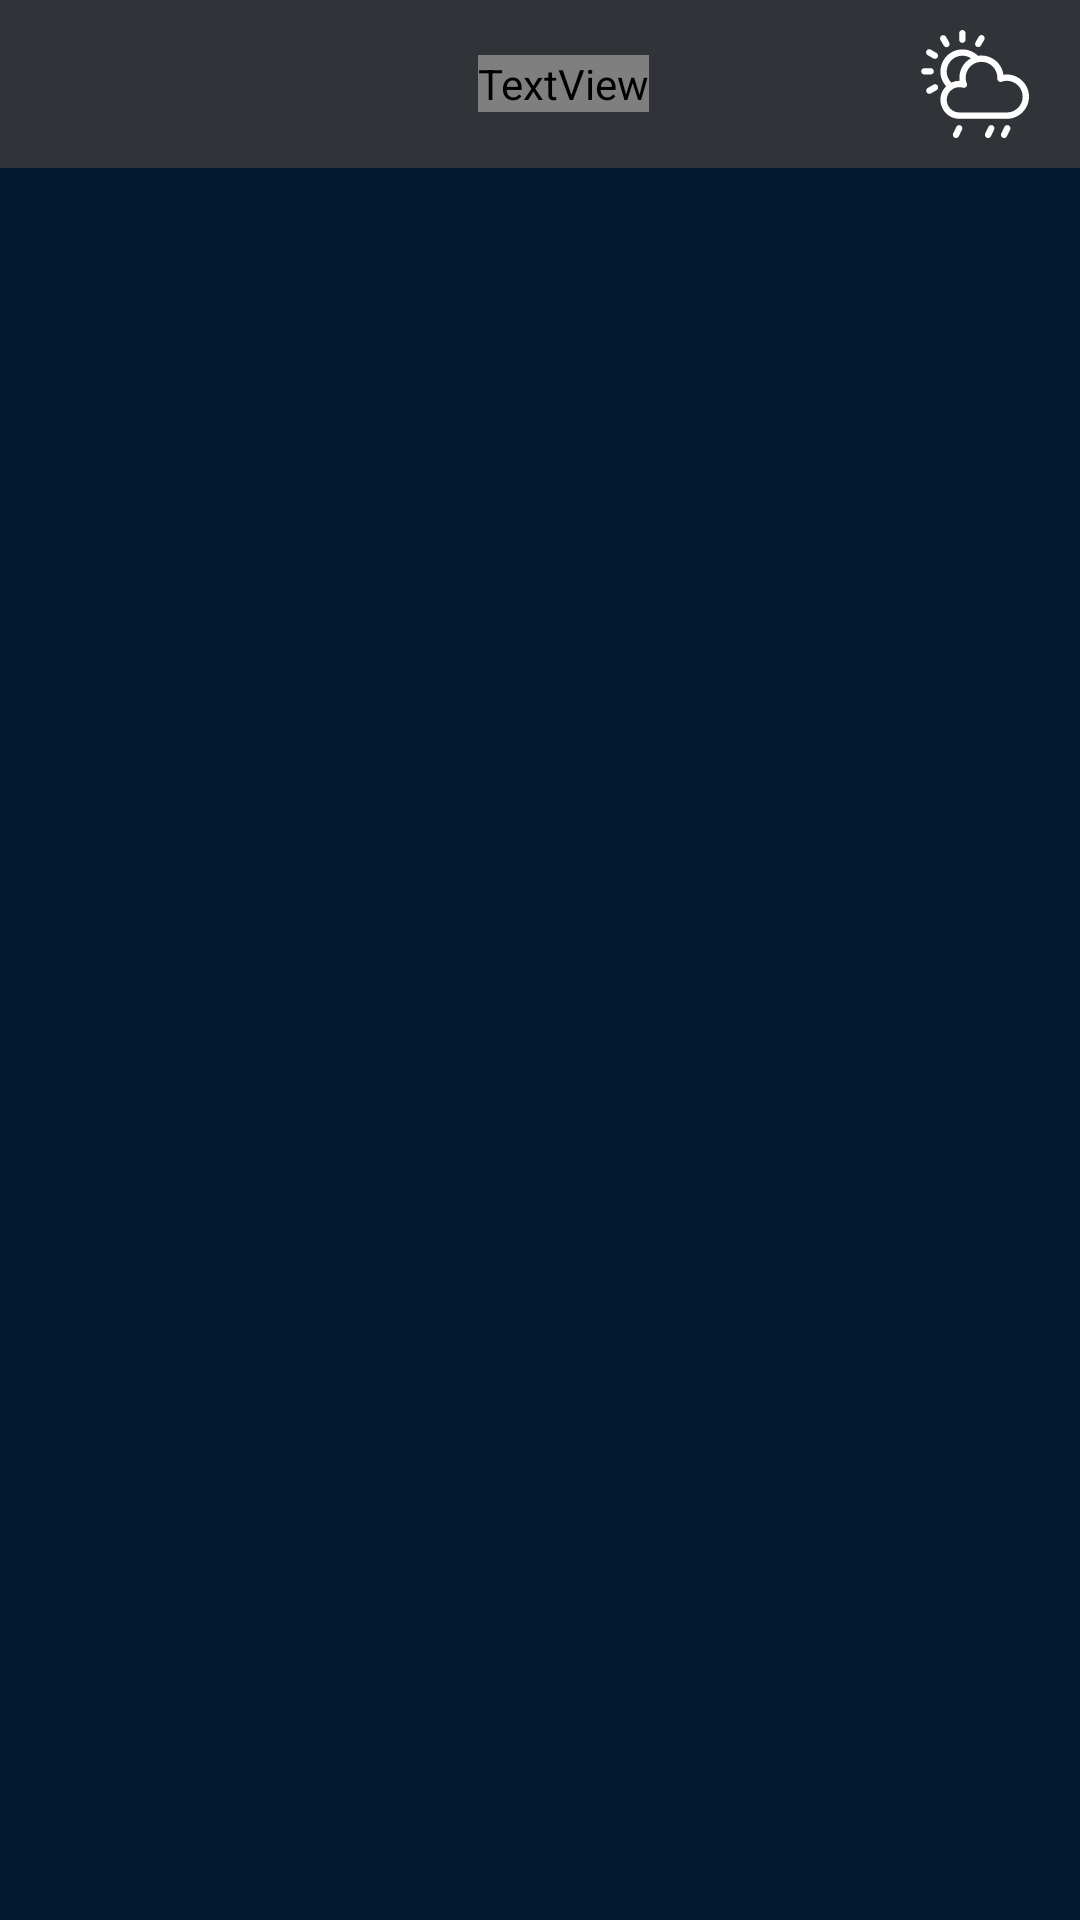

Icon click points for this 1080px x 1920px phone screenshot, format point (x, y):
weather: point (975, 84)
